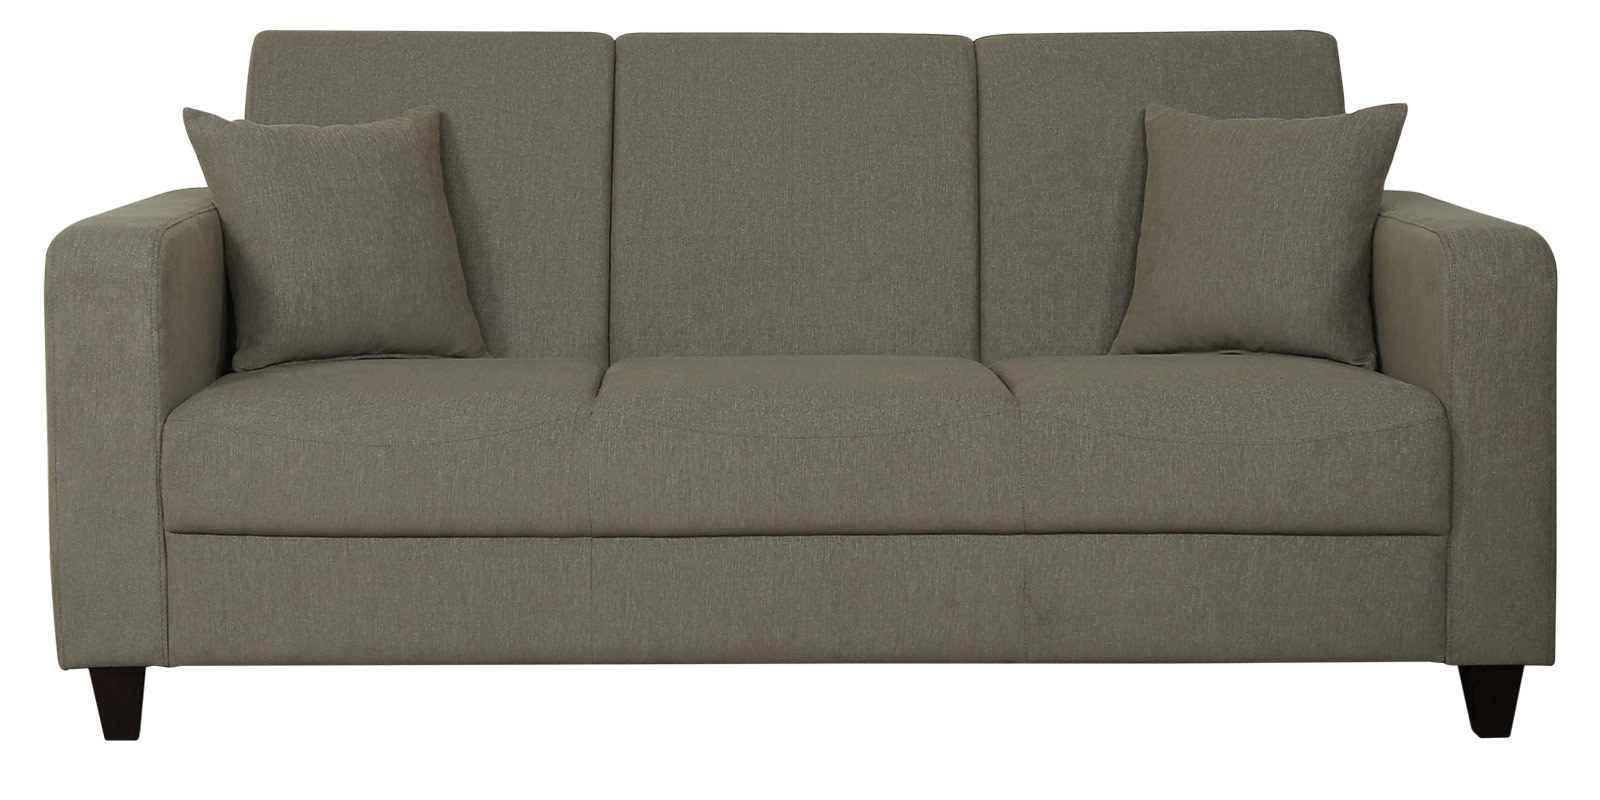Alba Three Seater Sofa in Sandy Brown Colour by CasaCraft: (50, 24, 1564, 765)
